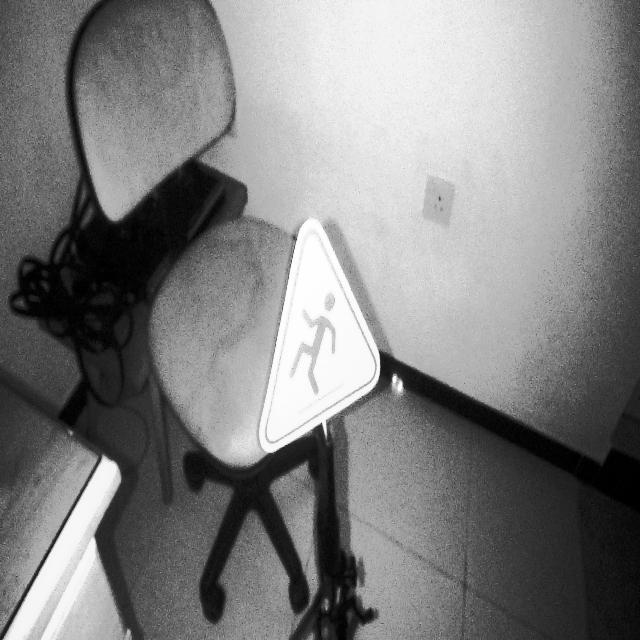Sign: (258, 218, 382, 456)
